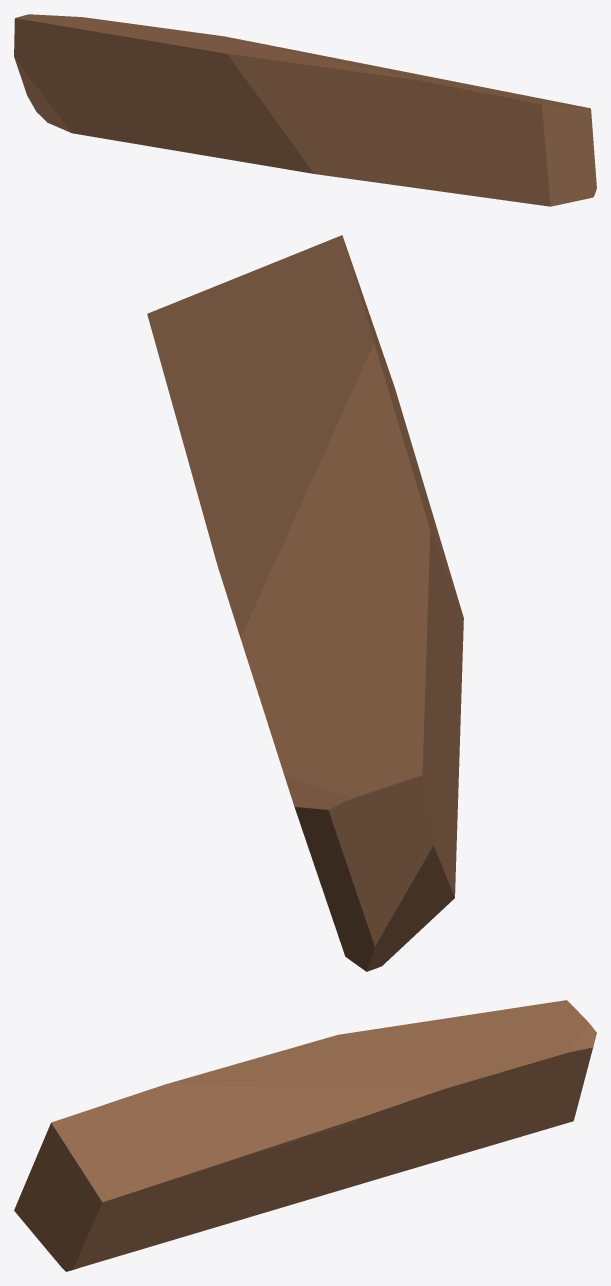
Rendered from WoodCellCube_003_cell_012.fbx.
3 views of the same model, one above another, from view 1: azimuth 30°, elevation 25°; view 2: azimuth 150°, elevation 25°; view 3: azimuth 270°, elevation 25° (orthographic). The views are drawn at different scales.
Visible parts, largest first — view 1: WoodCellCube_003_cell_012; view 2: WoodCellCube_003_cell_012; view 3: WoodCellCube_003_cell_012.
Part boxes in pixels (x1,y1,x2,y2): WoodCellCube_003_cell_012: (14,14,596,206); WoodCellCube_003_cell_012: (147,235,463,971); WoodCellCube_003_cell_012: (14,1000,596,1271).
Bounding box in the file's own units: 1.15 × 0.3021 × 0.8681.
Materials: 1 (1 with a texture image).
